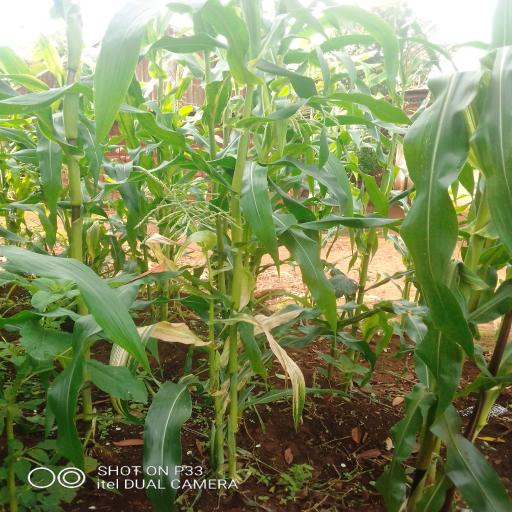Corn_Streak: (234, 312, 316, 424), (112, 321, 202, 383)
